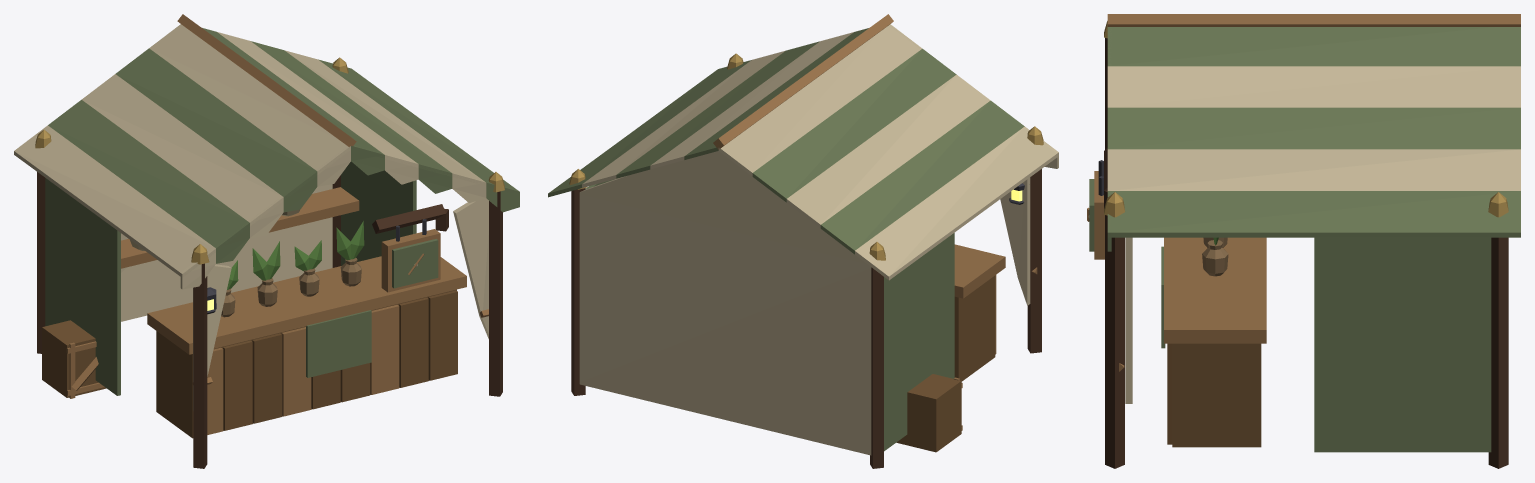
The model's file is town_merchant_b.glb.
3 renders of one model, left to right at view 1: azimuth 30°, elevation 25°; view 2: azimuth 150°, elevation 25°; view 3: azimuth 270°, elevation 25°, orthographic. The views are drawn at different scales.
Visible parts, largest first — view 1: town_merchant_b; view 2: town_merchant_b; view 3: town_merchant_b.
Boxes of the visible parts, x1,y1,x2,y2 form: town_merchant_b: [14, 14, 519, 468]; town_merchant_b: [548, 14, 1058, 468]; town_merchant_b: [1087, 14, 1520, 468].
Bounding box in the file's own units: 3.31 × 2.7 × 2.92.
